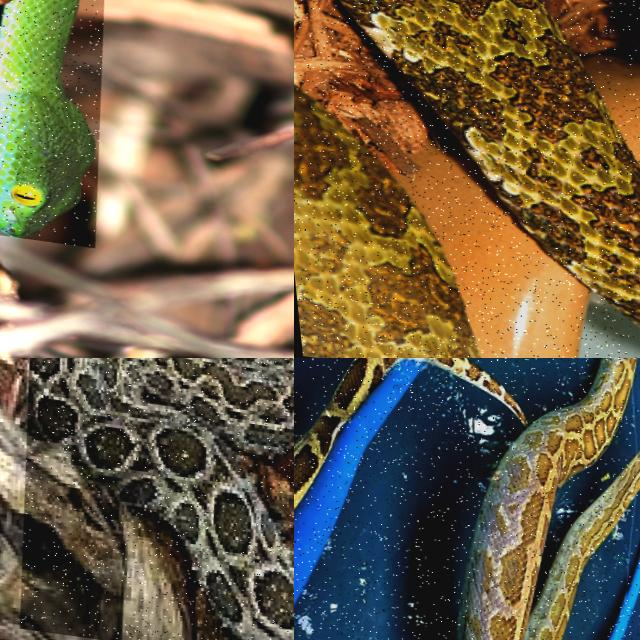Daboia siamensis: (29, 358, 293, 639)
Ovophis monticola: (339, 0, 639, 323)
Python bivittatus: (457, 358, 639, 639)
Trimeresurus macrops: (0, 0, 94, 236)
